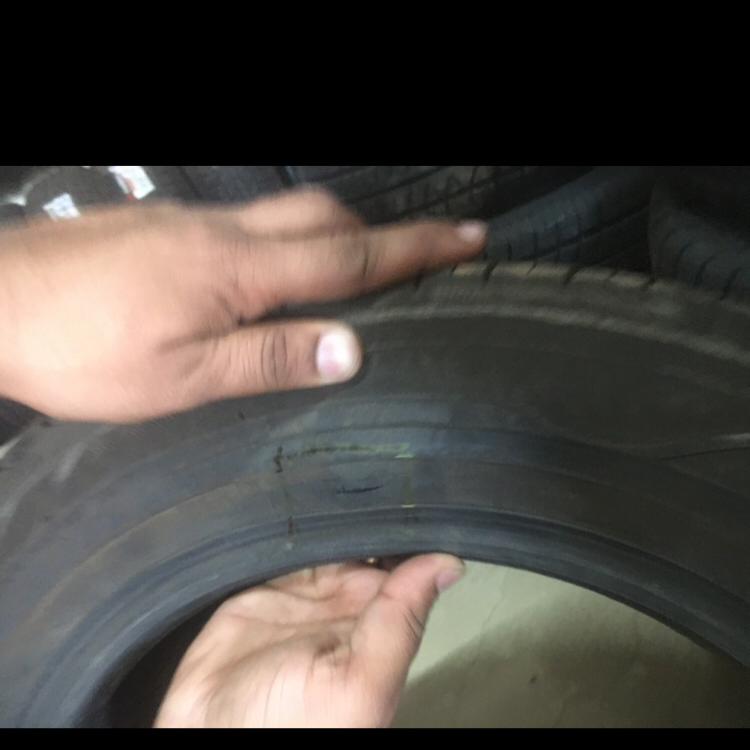CBU: (278, 382, 450, 551)
cut: (336, 481, 389, 495)
